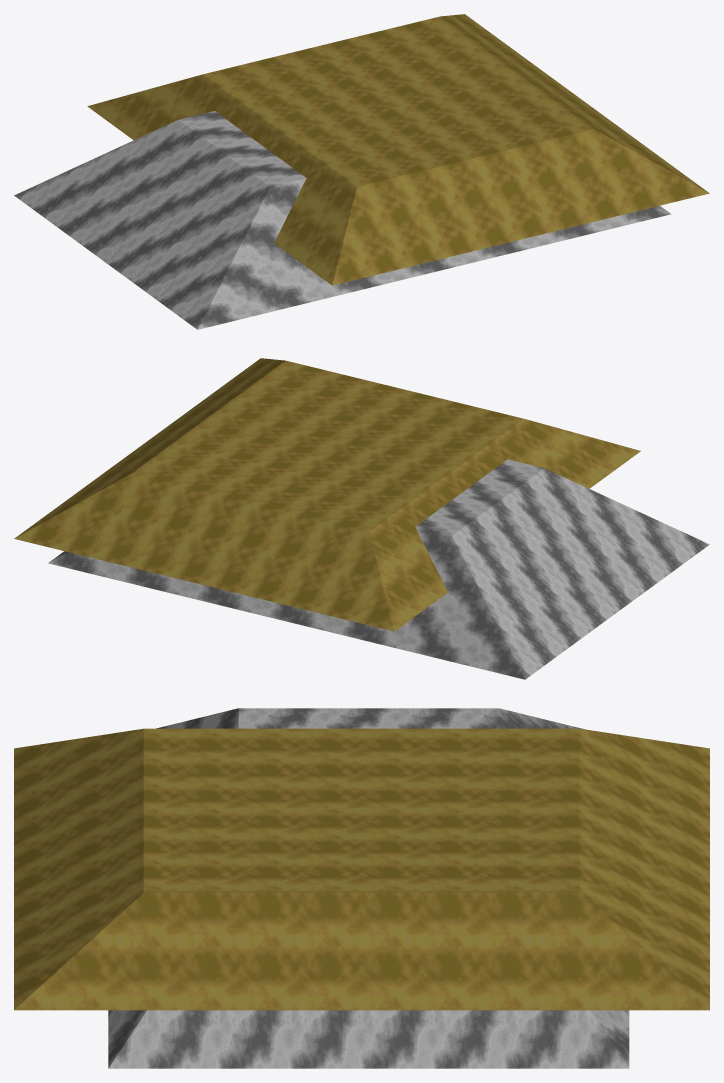
Rendered from alinos_perch.fbx.
3 views of the same model, one above another, from view 1: azimuth 30°, elevation 25°; view 2: azimuth 150°, elevation 25°; view 3: azimuth 270°, elevation 25° (orthographic). The views are drawn at different scales.
Visible parts, largest first — view 1: mesh96, mesh71; view 2: mesh96, mesh71; view 3: mesh96, mesh71.
Boxes of the visible parts, x1=… form: mesh96: x1=87, y1=14, x2=709, y2=285; mesh71: x1=14, y1=111, x2=671, y2=329; mesh96: x1=14, y1=358, x2=640, y2=631; mesh71: x1=48, y1=459, x2=709, y2=679; mesh96: x1=14, y1=728, x2=709, y2=1010; mesh71: x1=108, y1=708, x2=629, y2=1068.
Bounding box in the file's own units: 1155 × 239 × 1024.
